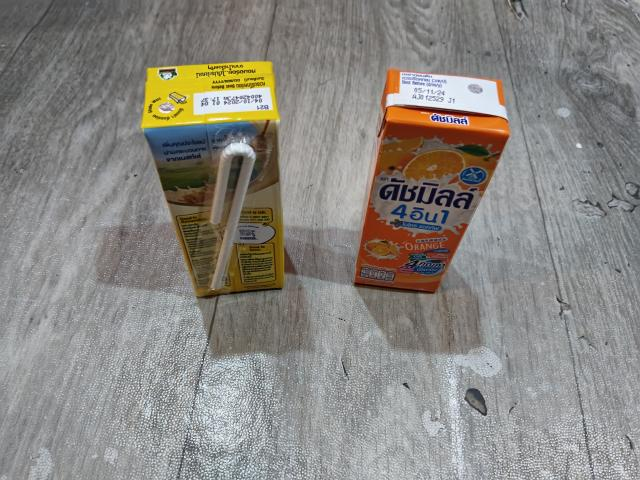drink_box: (349, 65, 521, 294), (140, 60, 303, 299)
